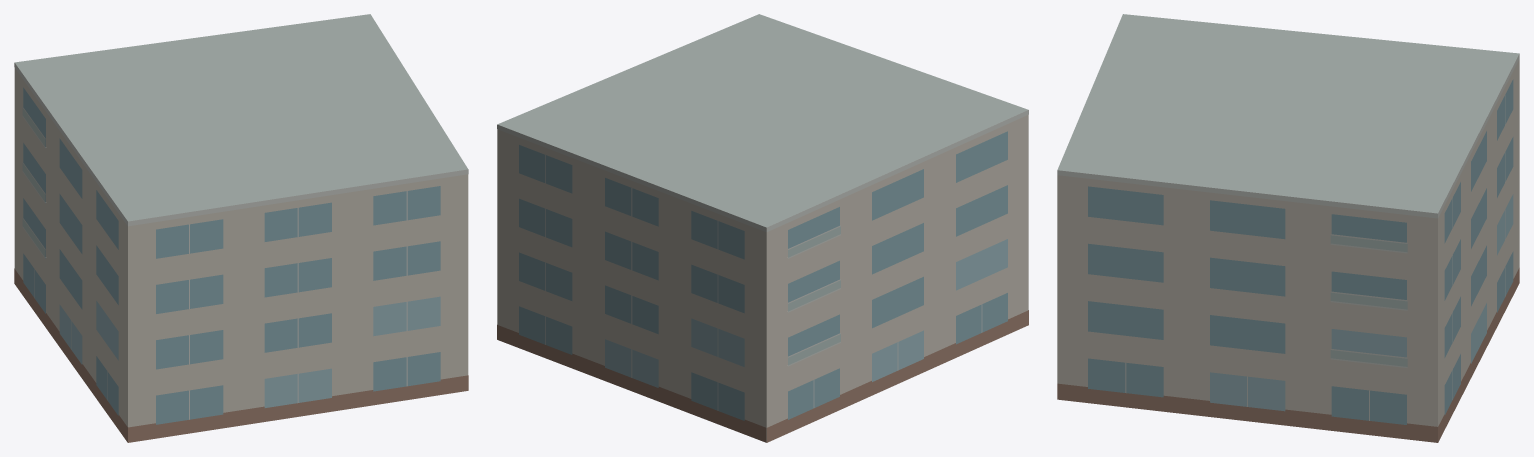
Rendered from survey-upis-32670073.glb.
The picture shows the model from 3 angles, left to right: view 1: azimuth 30°, elevation 25°; view 2: azimuth 150°, elevation 25°; view 3: azimuth 270°, elevation 25°; orthographic projection. The views are drawn at different scales.
Parts seen in each view (by area): view 1: survey-upis-32670073.tmp; view 2: survey-upis-32670073.tmp; view 3: survey-upis-32670073.tmp.
Part boxes in pixels (box(x1,y1,x2,y2)): survey-upis-32670073.tmp: box(14, 14, 468, 442); survey-upis-32670073.tmp: box(497, 14, 1028, 442); survey-upis-32670073.tmp: box(1057, 14, 1519, 442).
Bounding box in the file's own units: 20.9 × 11.2 × 20.47.
